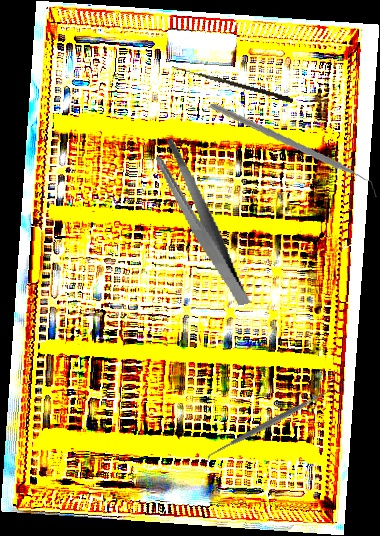Chopper: (209, 88, 378, 213)
Dressing Forceps: (152, 129, 251, 317)
Hook Surgical: (170, 65, 294, 104)
Spatula Surgical: (201, 383, 336, 465)
